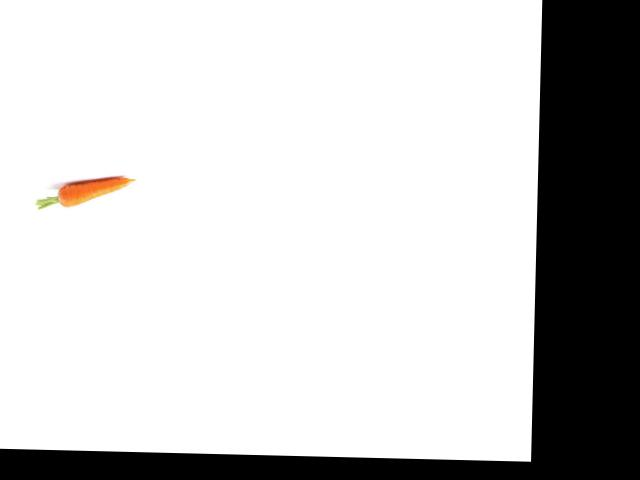carrot: (48, 167, 138, 217)
